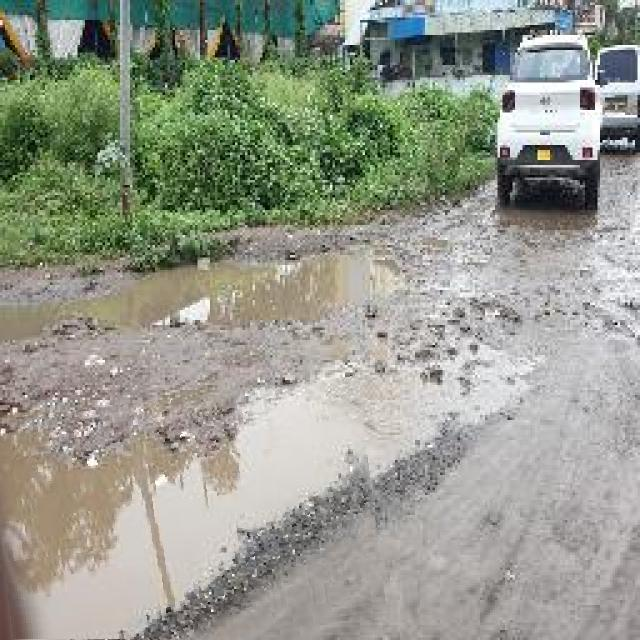puddle: (1, 388, 382, 640), (1, 253, 406, 342)
